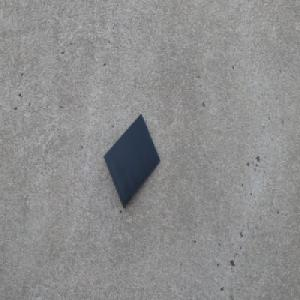PlasticPart: (103, 111, 161, 209)
